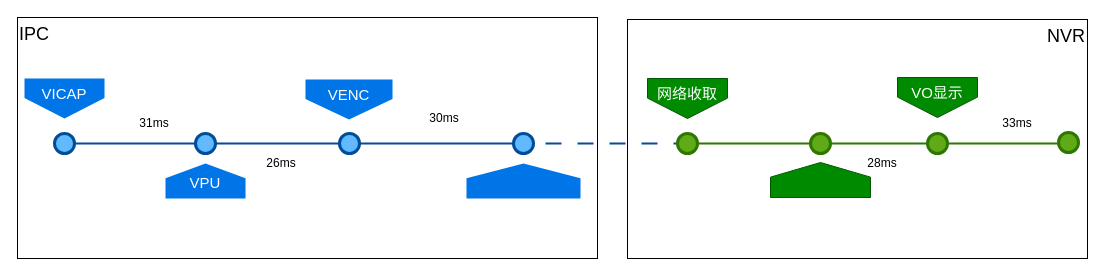
This 1105x276 diagram has some shape labels left out. Each missing label, with the centre of its shape:
"取流/网络发送" belongs at pixel 523 180.
"解码" belongs at pixel 820 180.
